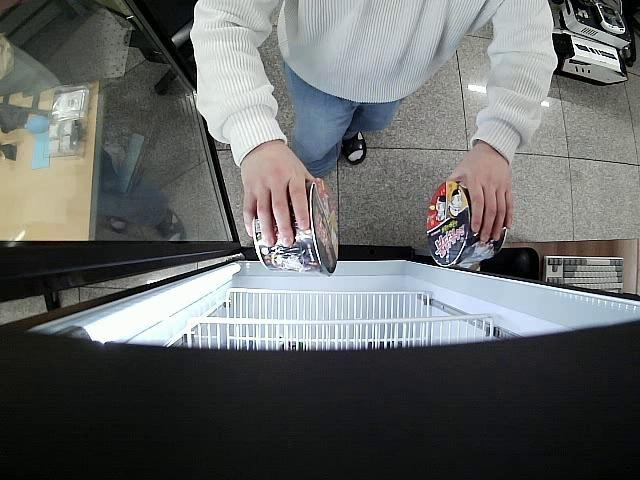07_buldak_L: (252, 179, 338, 280), (426, 182, 507, 268)
